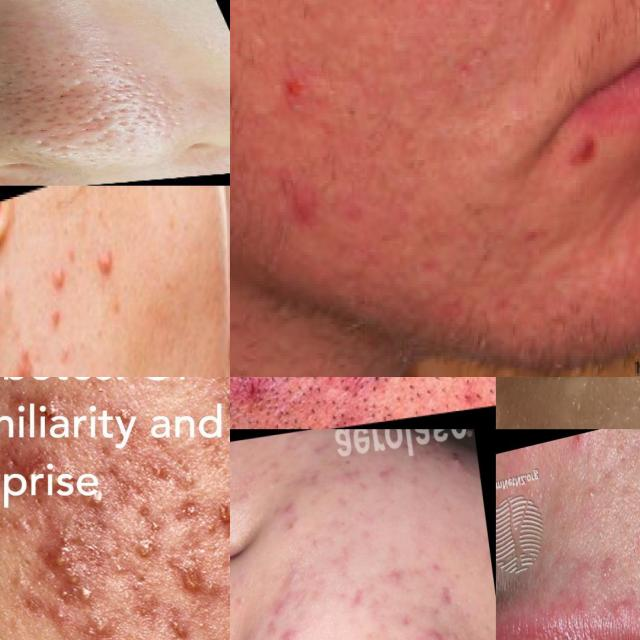acne_scars: (425, 573, 471, 617), (0, 327, 36, 377), (421, 549, 458, 576), (342, 580, 366, 616)
comedone: (79, 108, 126, 127), (584, 477, 601, 511), (112, 94, 137, 107), (29, 125, 51, 137), (27, 61, 52, 71), (6, 97, 31, 107), (49, 91, 70, 100), (61, 67, 82, 76)
crystanlline: (30, 533, 119, 620)
cystic: (414, 612, 453, 640)
keloid: (169, 557, 196, 598), (214, 492, 230, 542)
papule: (380, 554, 410, 595)
pustule: (82, 219, 126, 322), (32, 248, 73, 312), (443, 436, 474, 479)
syringoma: (496, 383, 529, 429)
